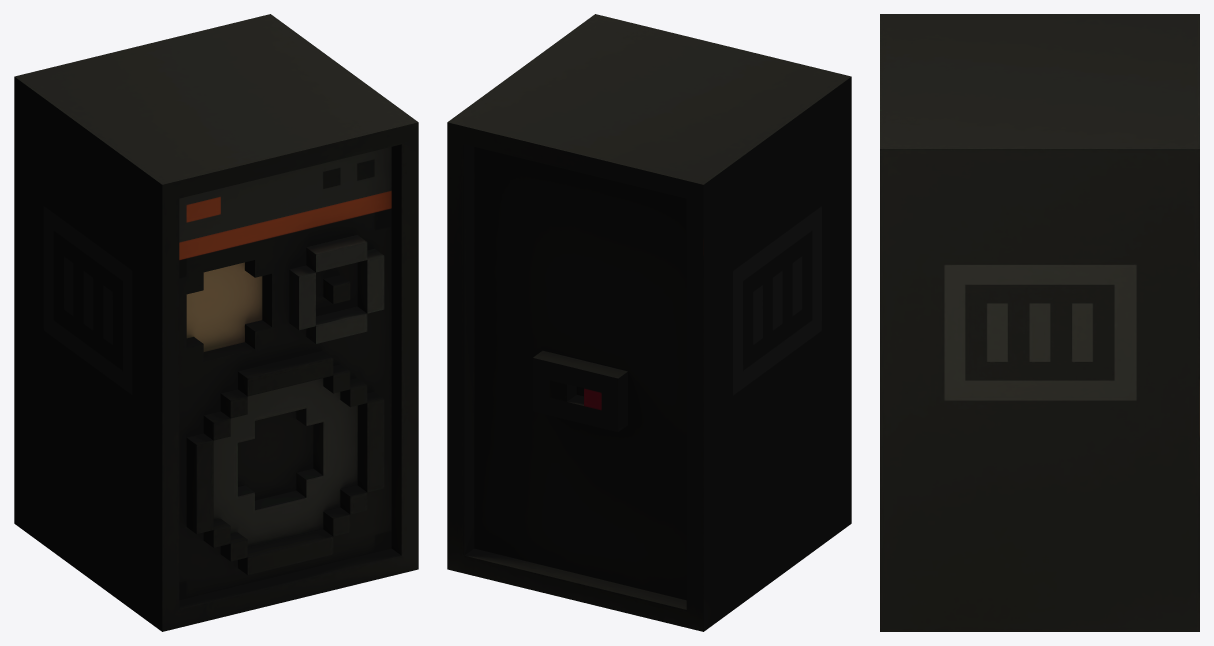
The model's file is speaker.glb.
3 renders of one model, left to right at view 1: azimuth 30°, elevation 25°; view 2: azimuth 150°, elevation 25°; view 3: azimuth 270°, elevation 25°, orthographic. The views are drawn at different scales.
Parts seen in each view (by area): view 1: speaker_JBL; view 2: speaker_JBL; view 3: speaker_JBL.
Boxes of the visible parts, x1,y1,x2,y2 form: speaker_JBL: [14, 14, 418, 631]; speaker_JBL: [447, 14, 851, 631]; speaker_JBL: [880, 14, 1199, 631].
Size of the model in its own units: 2.11 by 3.52 by 2.11.
Materials: 1 (1 with a texture image).
